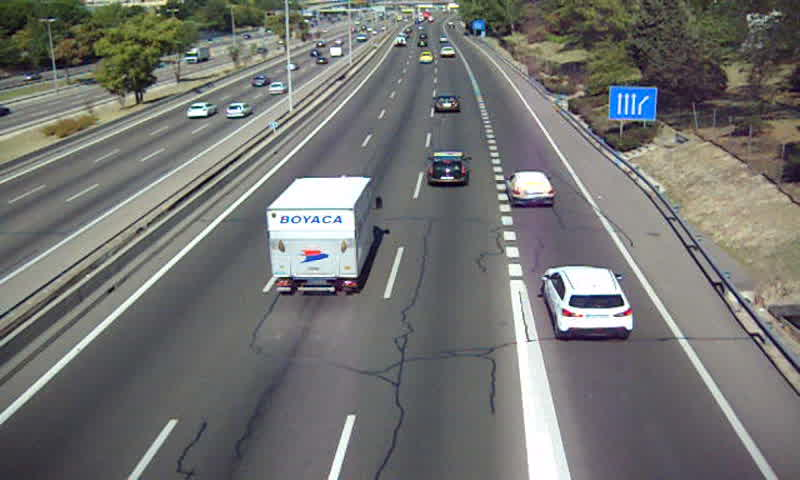car: (541, 265, 635, 341), (507, 171, 555, 206), (426, 150, 472, 185), (430, 94, 460, 115), (440, 46, 456, 58), (417, 51, 434, 62)
small-truck: (268, 176, 376, 293)
